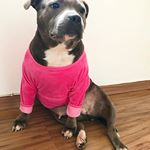puppy: (25, 1, 93, 51)
